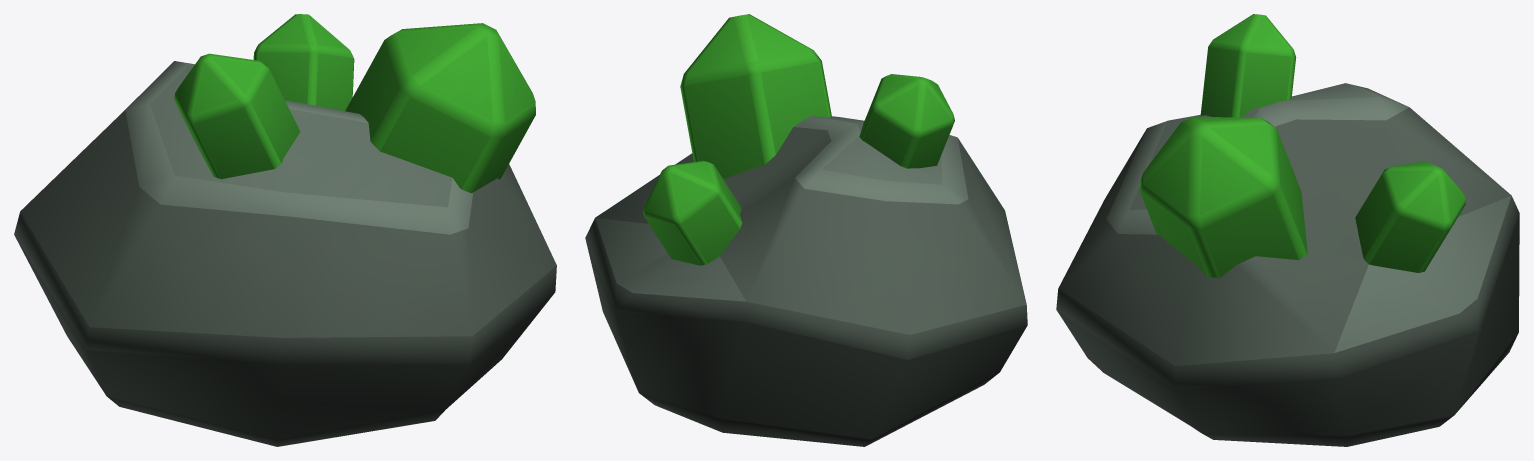
The model's file is ore_christal_emerald_S.fbx.
The picture shows the model from 3 angles, left to right: view 1: azimuth 30°, elevation 25°; view 2: azimuth 150°, elevation 25°; view 3: azimuth 270°, elevation 25°; orthographic projection. The views are drawn at different scales.
Visible parts, largest first — view 1: ore_christal_emerald_S; view 2: ore_christal_emerald_S; view 3: ore_christal_emerald_S.
Boxes of the visible parts, left/top/right/bottom form: ore_christal_emerald_S: left=14, top=14, right=556, bottom=446; ore_christal_emerald_S: left=585, top=14, right=1027, bottom=446; ore_christal_emerald_S: left=1056, top=14, right=1519, bottom=446.
Size of the model in its own units: 115 by 96.07 by 110.
1 material, 1 textured.
